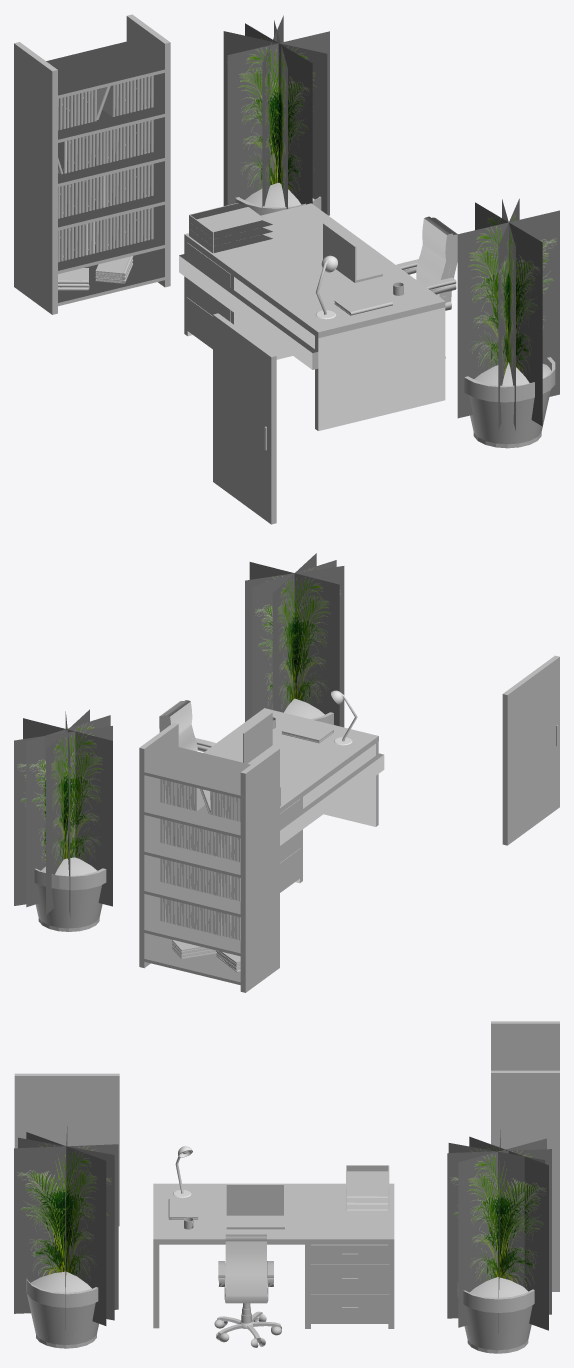
File: office-furniture.fbx
The picture shows the model from 3 angles, top to bottom: view 1: azimuth 30°, elevation 25°; view 2: azimuth 150°, elevation 25°; view 3: azimuth 270°, elevation 25°; orthographic projection. The views are drawn at different scales.
Parts seen in each view (by area): view 1: Box005, Box025, door, Plant002, Plant004, Plant005, vase02, Plant009, Plant007, Sphere010, Box278, Plant006 (+7 smaller); view 2: Box025, Box005, door, Plant002, Plant004, Plant008, vase01, Plant003, Plant005, Plant2, Plant009, Plant006 (+4 smaller); view 3: Box005, Box025, Plant005, door, Plant006, Plant007, Sphere010, Plant008, Plant003, vase01, vase02, Plant009 (+7 smaller).
Part boxes in pixels (left/top/right/bottom): Box005: left=179, top=203, right=445, bottom=430; Box025: left=14, top=14, right=170, bottom=314; door: left=213, top=313, right=276, bottom=524; Plant002: left=457, top=210, right=559, bottom=418; Plant004: left=227, top=31, right=329, bottom=215; Plant005: left=475, top=202, right=542, bottom=426; vase02: left=464, top=357, right=555, bottom=448; Plant009: left=245, top=23, right=312, bottom=204; Plant007: left=223, top=31, right=327, bottom=214; Sphere010: left=396, top=216, right=457, bottom=358; Box278: left=189, top=203, right=272, bottom=252; Plant006: left=498, top=198, right=519, bottom=429; Box025: left=139, top=722, right=279, bottom=992; Box005: left=203, top=708, right=384, bottom=892; door: left=502, top=655, right=559, bottom=845; Plant002: left=249, top=562, right=339, bottom=726; Plant004: left=23, top=718, right=112, bottom=906; Plant008: left=14, top=726, right=112, bottom=905; vase01: left=34, top=868, right=106, bottom=931; Plant003: left=26, top=715, right=110, bottom=907; Plant005: left=272, top=553, right=316, bottom=712; Plant2: left=252, top=560, right=336, bottom=716; Plant009: left=46, top=709, right=89, bottom=914; Plant006: left=245, top=566, right=344, bottom=727; Box005: left=153, top=1183, right=394, bottom=1328; Box025: left=491, top=1021, right=559, bottom=1291; Plant005: left=14, top=1144, right=118, bottom=1313; door: left=14, top=1073, right=119, bottom=1226; Plant006: left=26, top=1132, right=106, bottom=1325; Plant007: left=458, top=1138, right=546, bottom=1327; Sphere010: left=214, top=1233, right=281, bottom=1347; Plant008: left=469, top=1136, right=548, bottom=1330; Plant003: left=448, top=1143, right=545, bottom=1287; vase01: left=457, top=1283, right=534, bottom=1353; vase02: left=26, top=1278, right=98, bottom=1348; Plant009: left=447, top=1149, right=551, bottom=1318.
Size of the model in its own units: 480 by 345 by 765.
